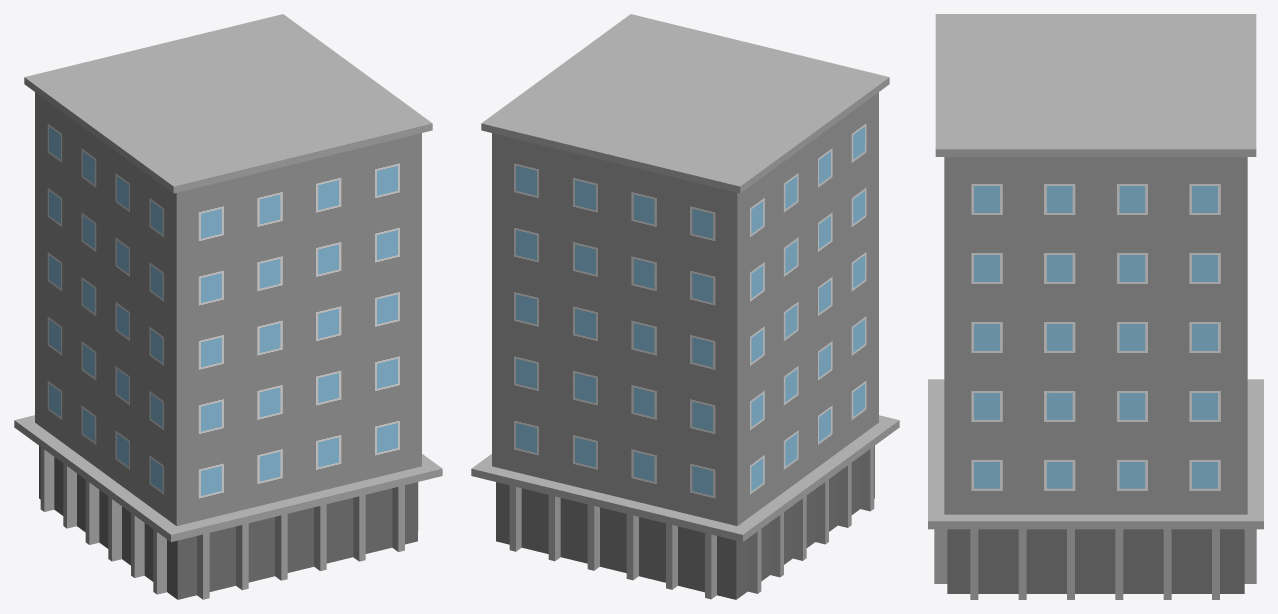
Rendered from building_01.FBX.
The picture shows the model from 3 angles, left to right: view 1: azimuth 30°, elevation 25°; view 2: azimuth 150°, elevation 25°; view 3: azimuth 270°, elevation 25°; orthographic projection. The views are drawn at different scales.
Parts seen in each view (by area): view 1: mado; view 2: mado; view 3: mado.
Boxes of the visible parts, box(x1,y1,x2,y2) form: mado: box(14, 14, 442, 599); mado: box(471, 14, 899, 599); mado: box(928, 14, 1263, 599).
Size of the model in its own units: 97.41 by 144 by 97.41.
